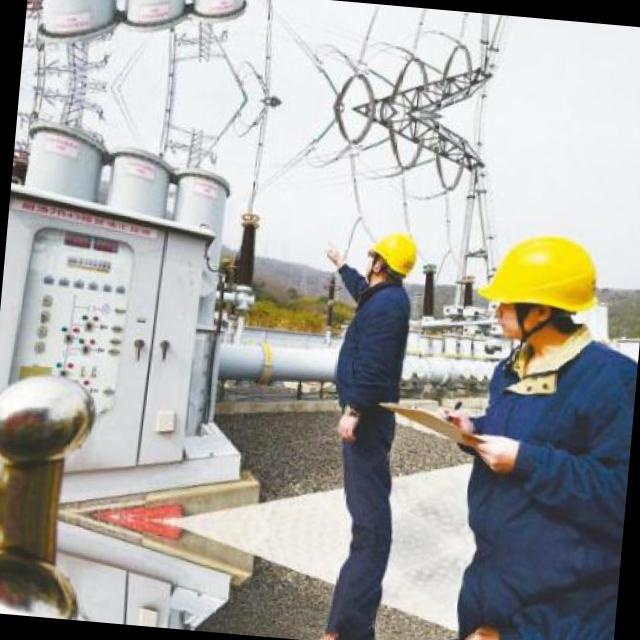helmet: (476, 218, 611, 359), (362, 222, 422, 288)
